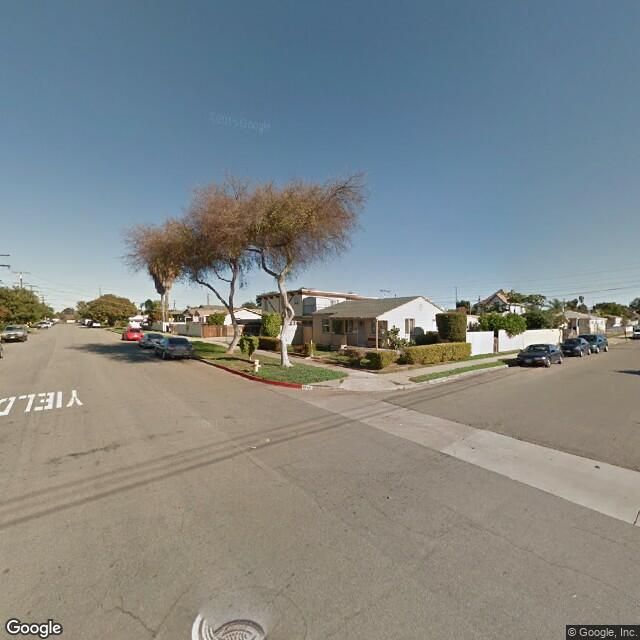litter: (263, 436, 274, 450)
